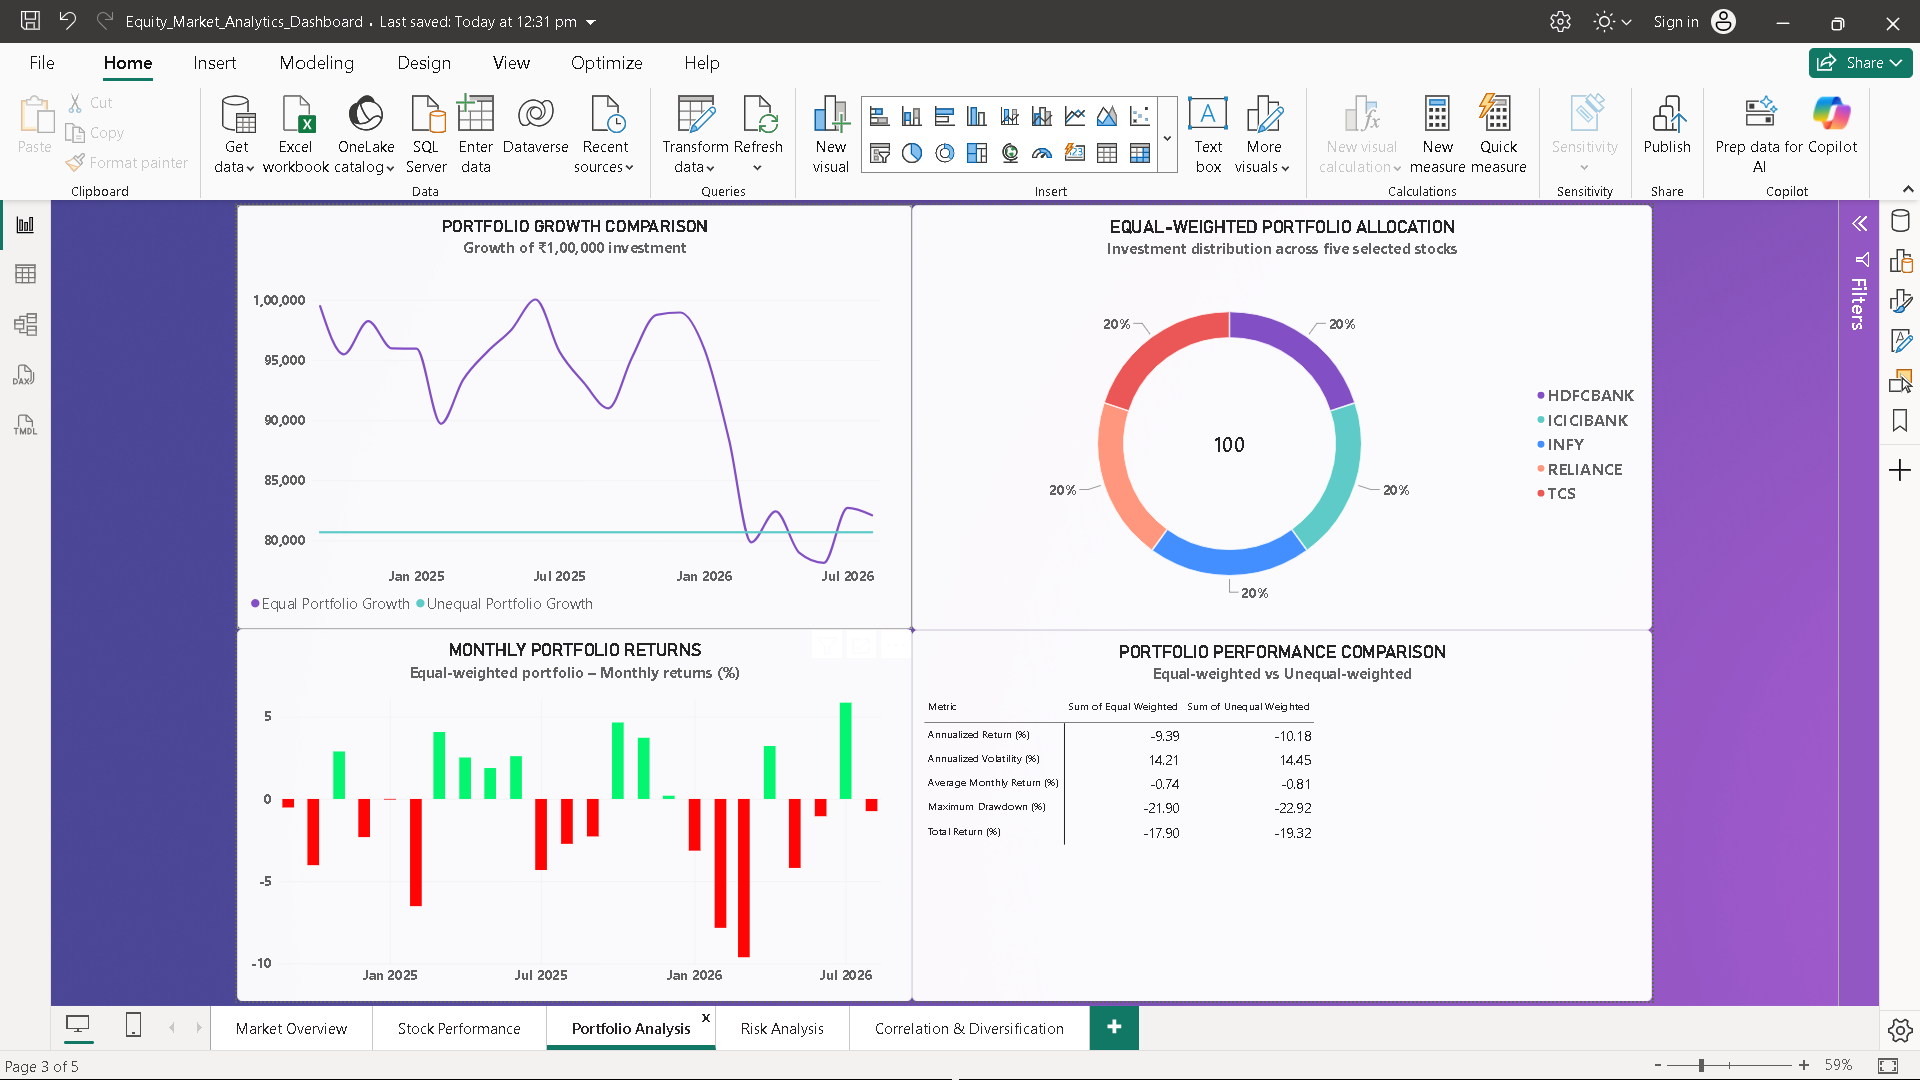

Layout of this report page (visuals, bound fields, positions):
{"tool":"powerbi","page":{"name":"Portfolio Analysis","canvas":[1920,1080],"ordinal":2},"visuals":[{"type":"lineChart","title":"PORTFOLIO GROWTH COMPARISON","fields":{"Category":["equal_weighted_monthly_returns.Month"],"Y":["equal_weighted_monthly_returns.Equal Portfolio Growth","unequal_weighted_monthly_returns.Unequal Portfolio Growth"]},"box":[0,0,915.8,574.9],"z":0},{"type":"clusteredColumnChart","title":"MONTHLY PORTFOLIO RETURNS","fields":{"Category":["equal_weighted_monthly_returns.Month"],"Y":["Sum(equal_weighted_monthly_returns.Equal Weighted Return %)"]},"box":[0,574.9,915.8,505.4],"z":1000},{"type":"donutChart","title":"EQUAL-WEIGHTED PORTFOLIO ALLOCATION","fields":{"Category":["Portfolio Allocation.Symbol"],"Y":["Sum(Portfolio Allocation.Equal Weight %)"]},"box":[915.8,0,1004,576.6],"z":2000},{"type":"pivotTable","title":"PORTFOLIO PERFORMANCE COMPARISON","fields":{"Rows":["portfolio_comparison.Metric"],"Values":["Sum(portfolio_comparison.Equal Weighted)","Sum(portfolio_comparison.Unequal Weighted)"]},"box":[915.8,576.6,1004,503.7],"z":3000}]}

Visuals, with their boxes on the page's 1920x1080 design canvas (x1, y1, x2, y2). These are canvas units, not pixel positions in the 1920x1080 screenshot, which may show the page scaled, cropped or inside an application window:
"PORTFOLIO GROWTH COMPARISON" lineChart: crop(0, 0, 916, 575)
"MONTHLY PORTFOLIO RETURNS" clusteredColumnChart: crop(0, 575, 916, 1080)
"EQUAL-WEIGHTED PORTFOLIO ALLOCATION" donutChart: crop(916, 0, 1920, 577)
"PORTFOLIO PERFORMANCE COMPARISON" pivotTable: crop(916, 577, 1920, 1080)
